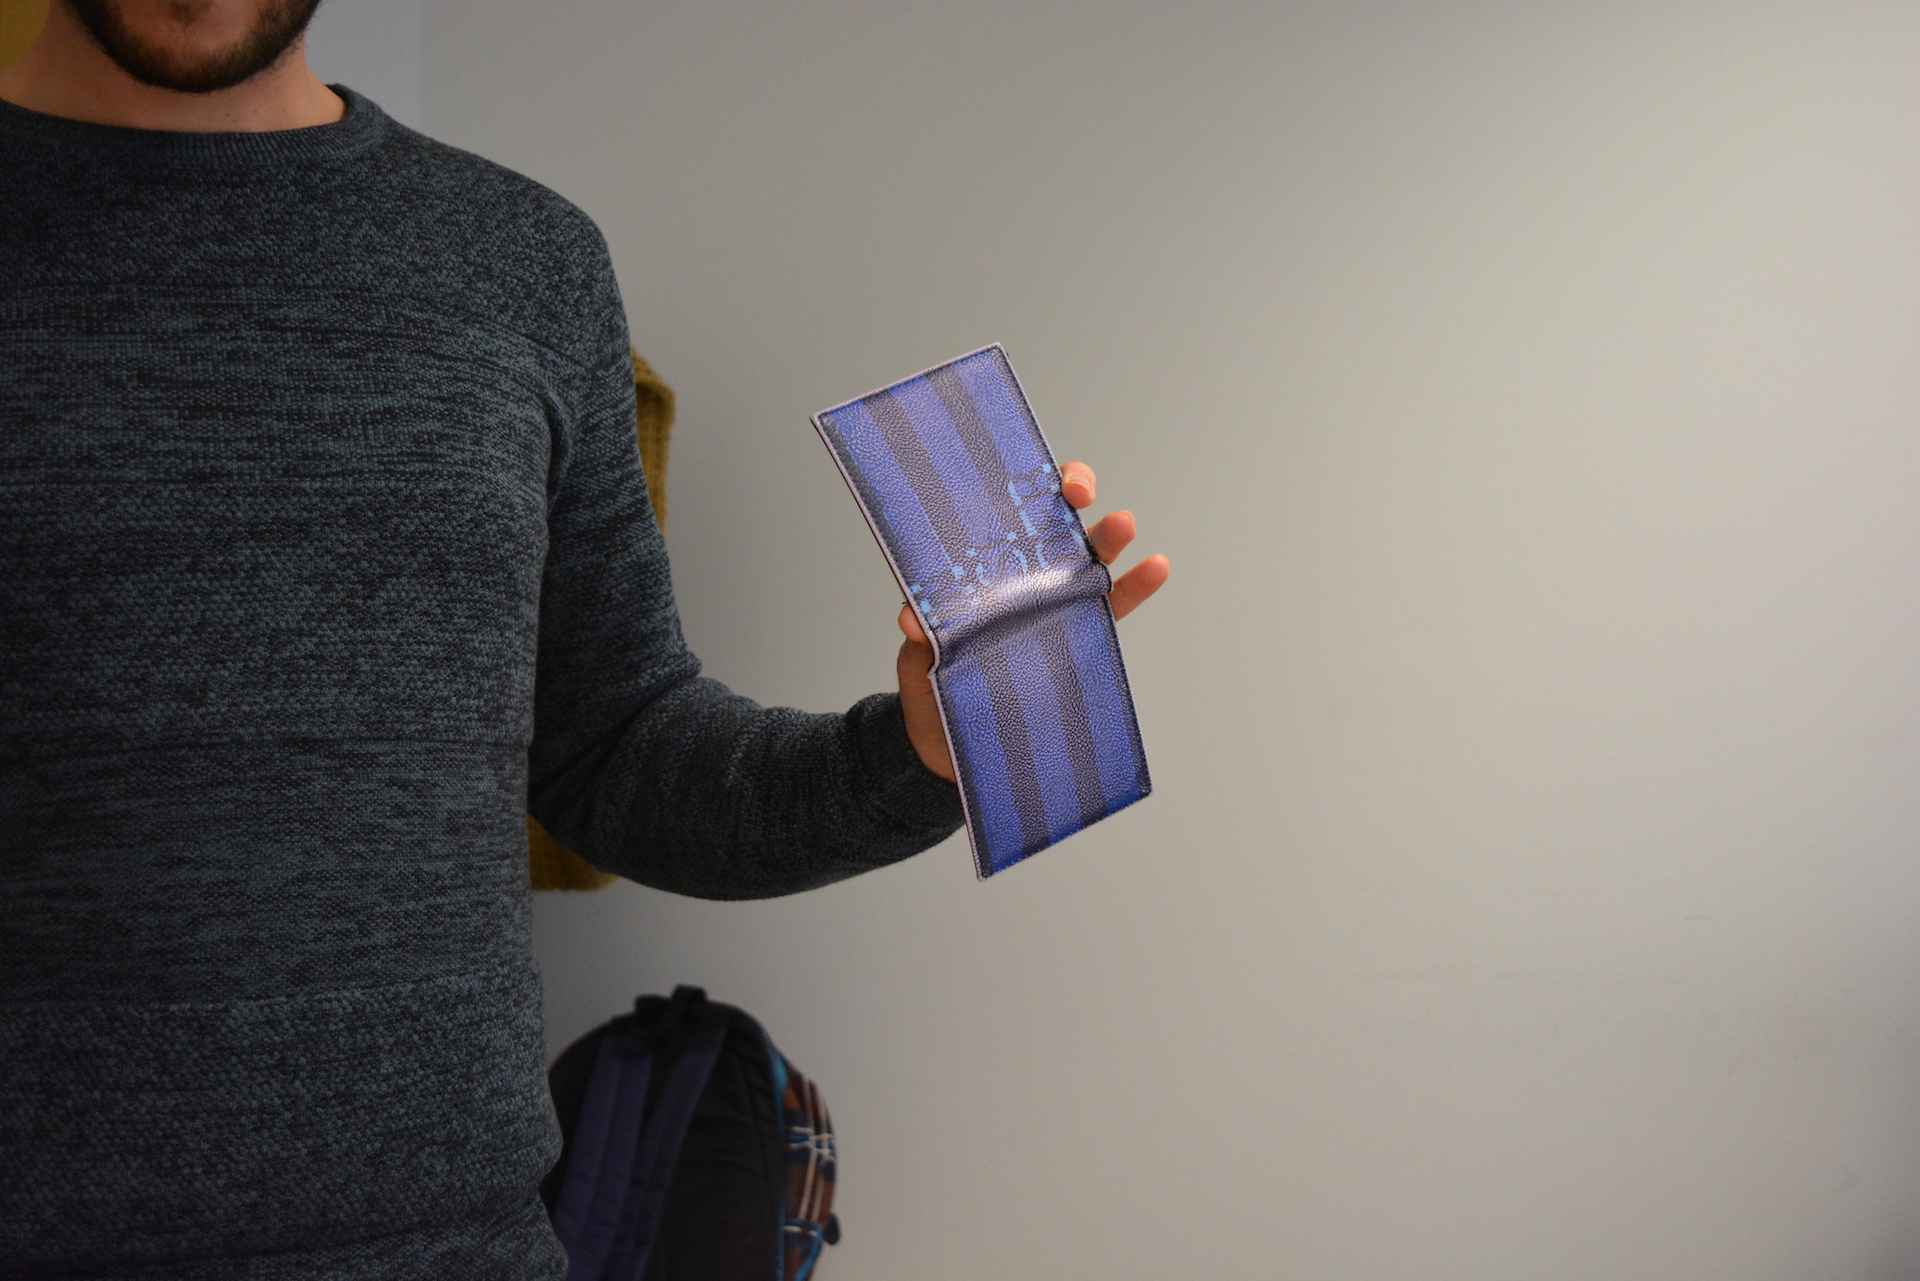monedero: (805, 337, 1158, 885)
